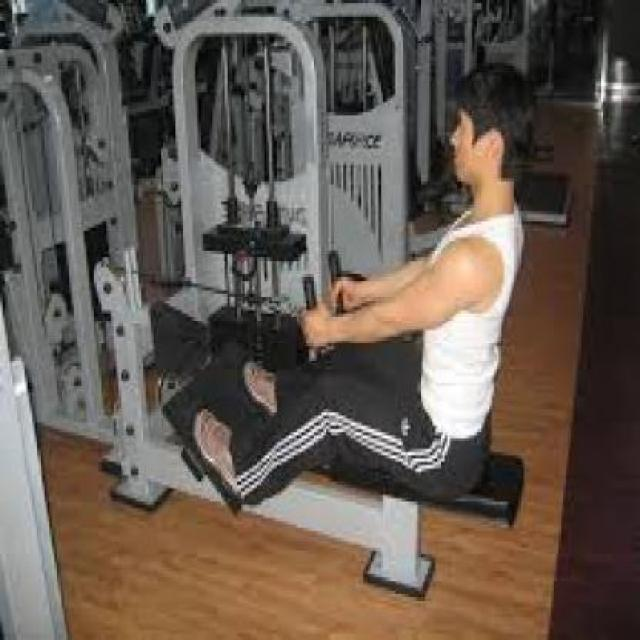Seated Cable Rows: (0, 0, 546, 603)
